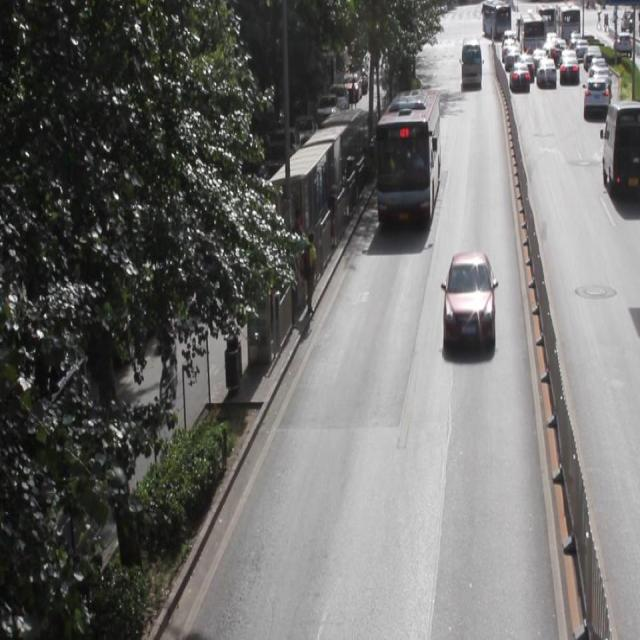car: (439, 252, 494, 347)
truck: (601, 101, 640, 196)
van: (375, 89, 438, 227)
